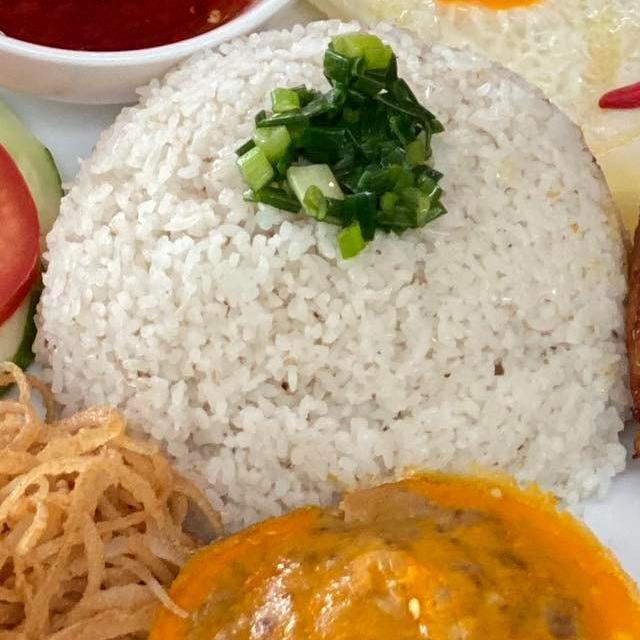bi: (0, 352, 236, 640)
com: (21, 10, 640, 539)
com suon bi trung: (0, 0, 640, 640)
trung: (141, 463, 640, 640), (242, 0, 640, 157)
